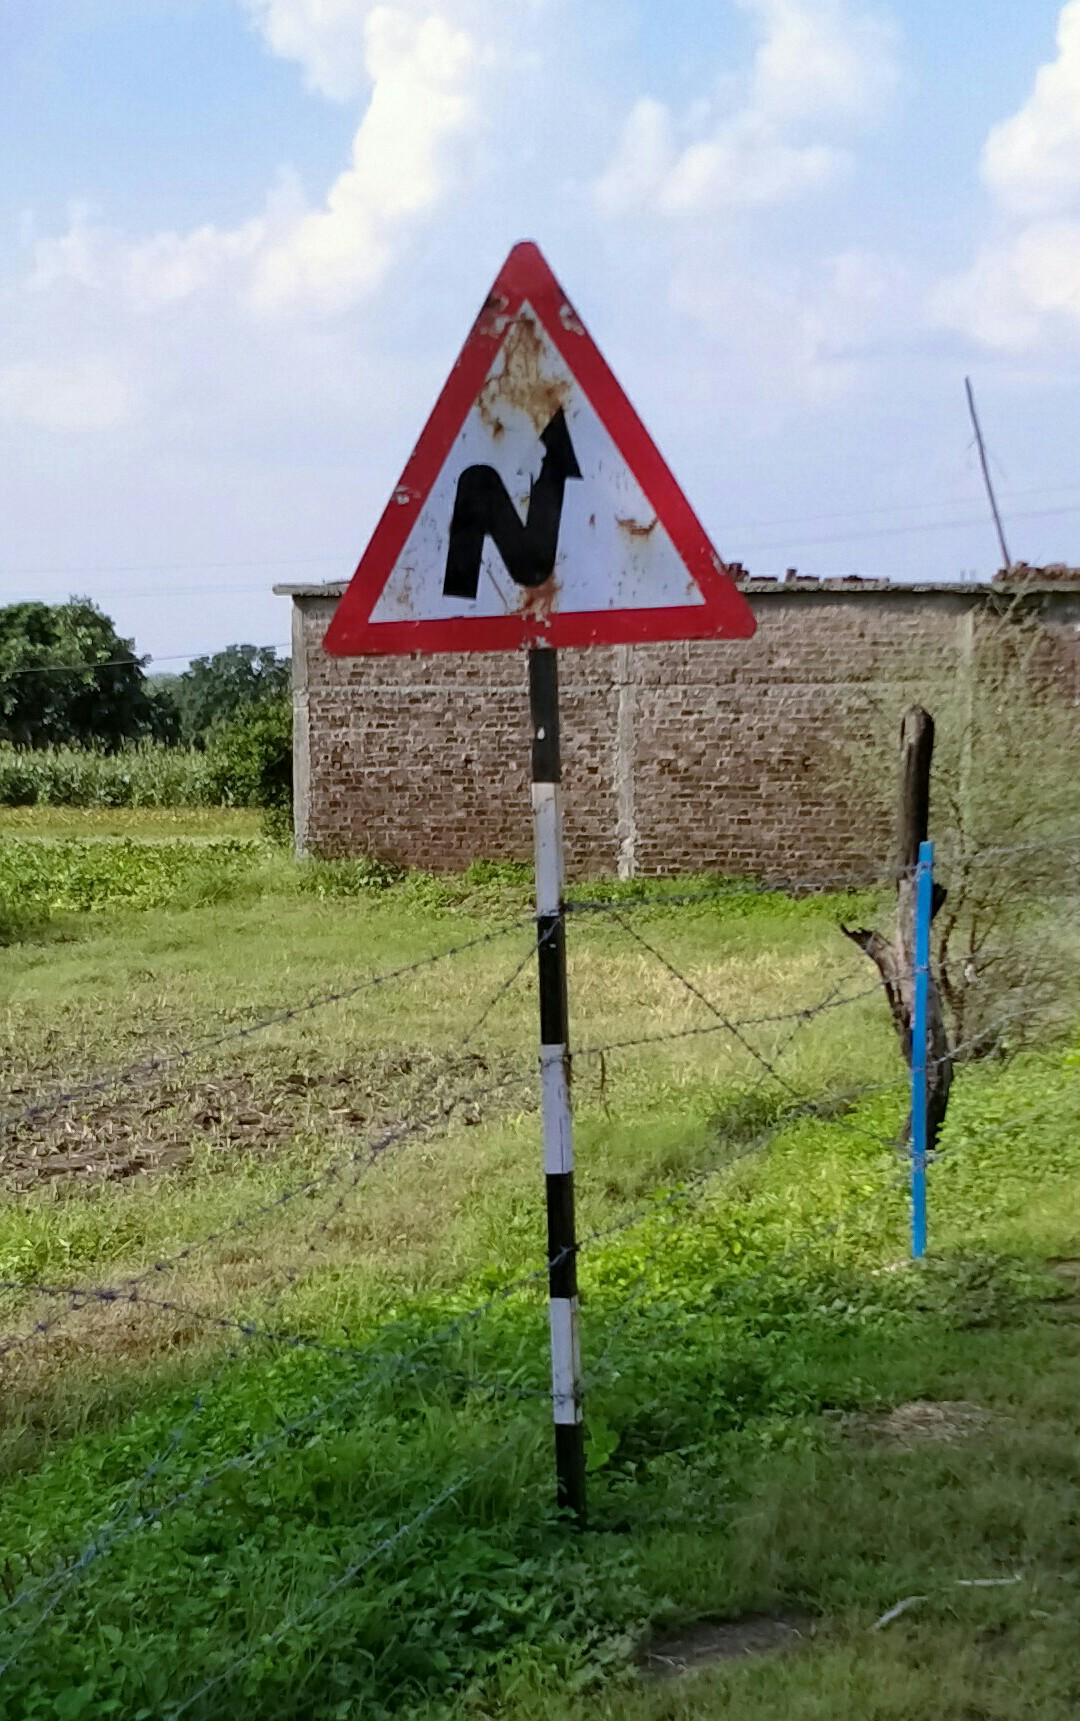traffic_sign: (324, 243, 758, 662)
